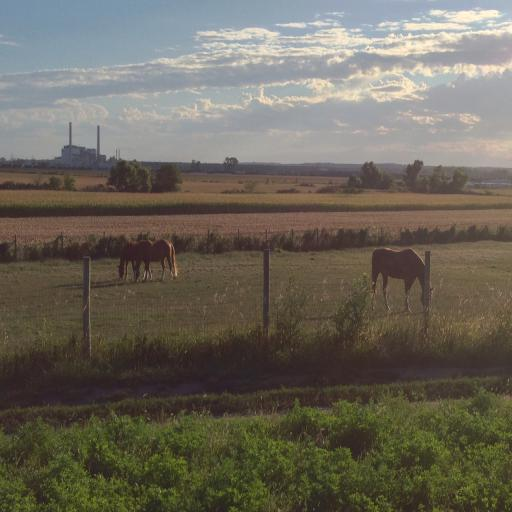horse: (369, 247, 435, 318), (133, 240, 179, 284), (115, 240, 151, 282)
